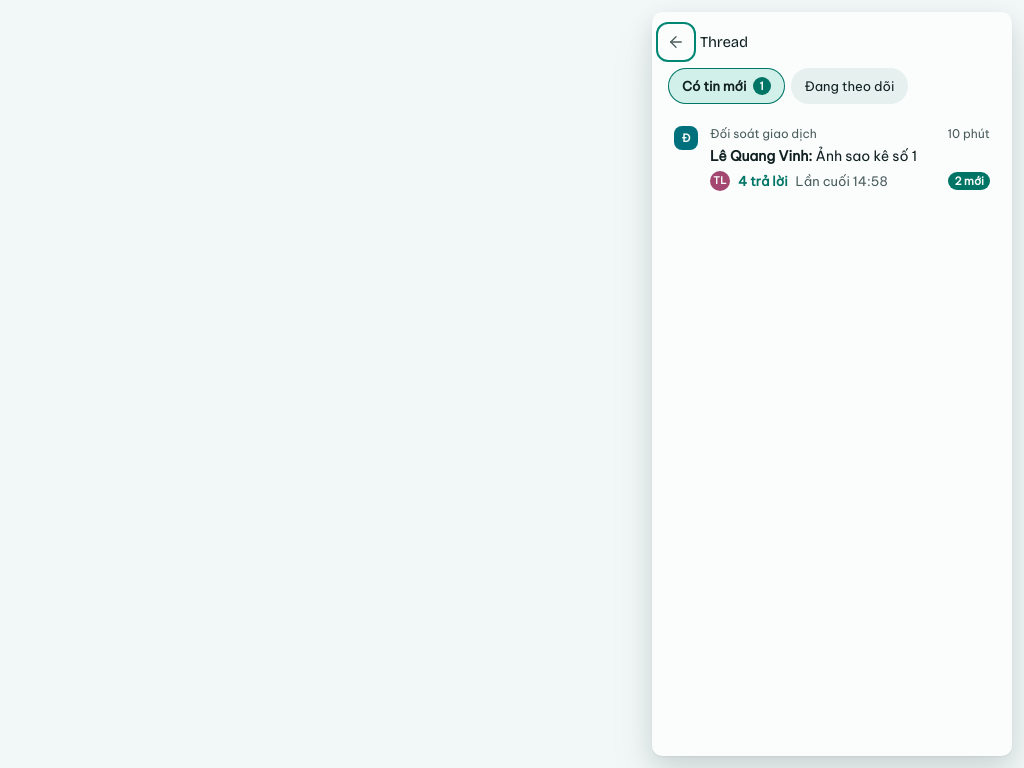
Test case: the Thread screen › switches to every followed thread, read ones included
The image size is (1024, 768).
Expected: the button with aria-label "Thread của" is shown, [662,114,1002,203]
Click the radio button labelled "Đang theo dõi": (850, 86) [790,68,908,104]
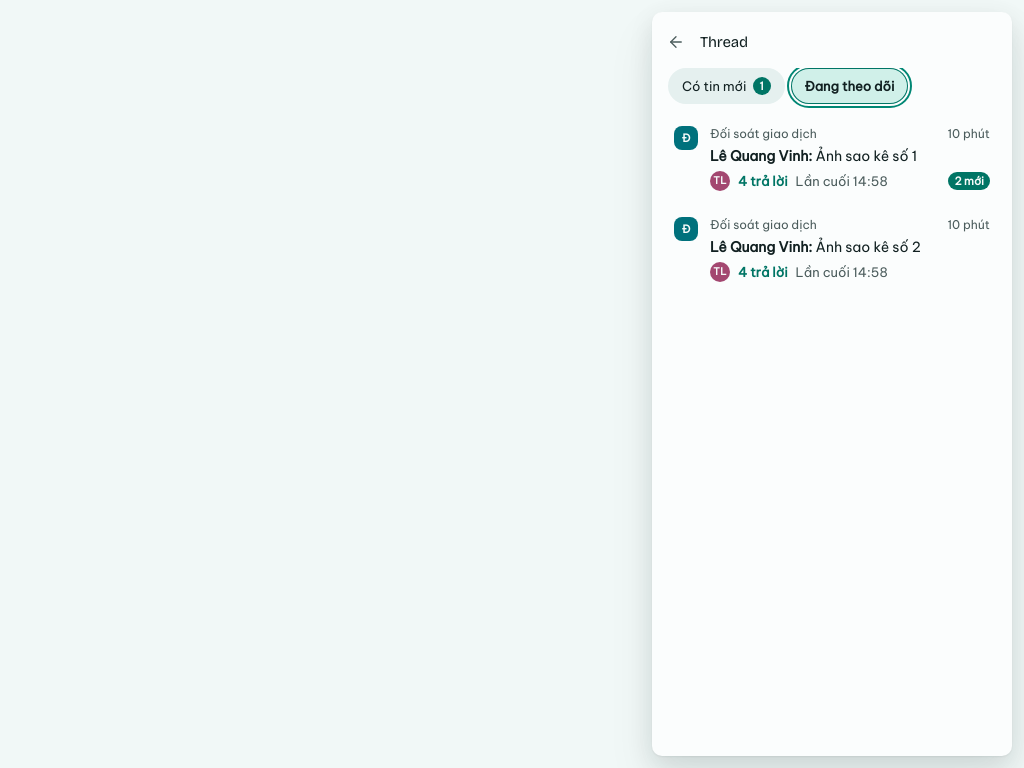
Now the number of buttons named "Thread của" is 2, box [662,114,1002,203]; [662,205,1002,294]
